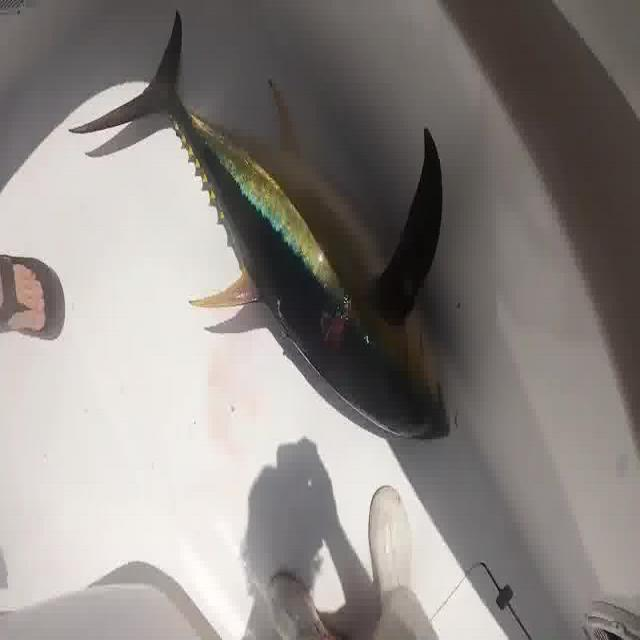Yellowfin Tuna: (68, 8, 452, 446)
